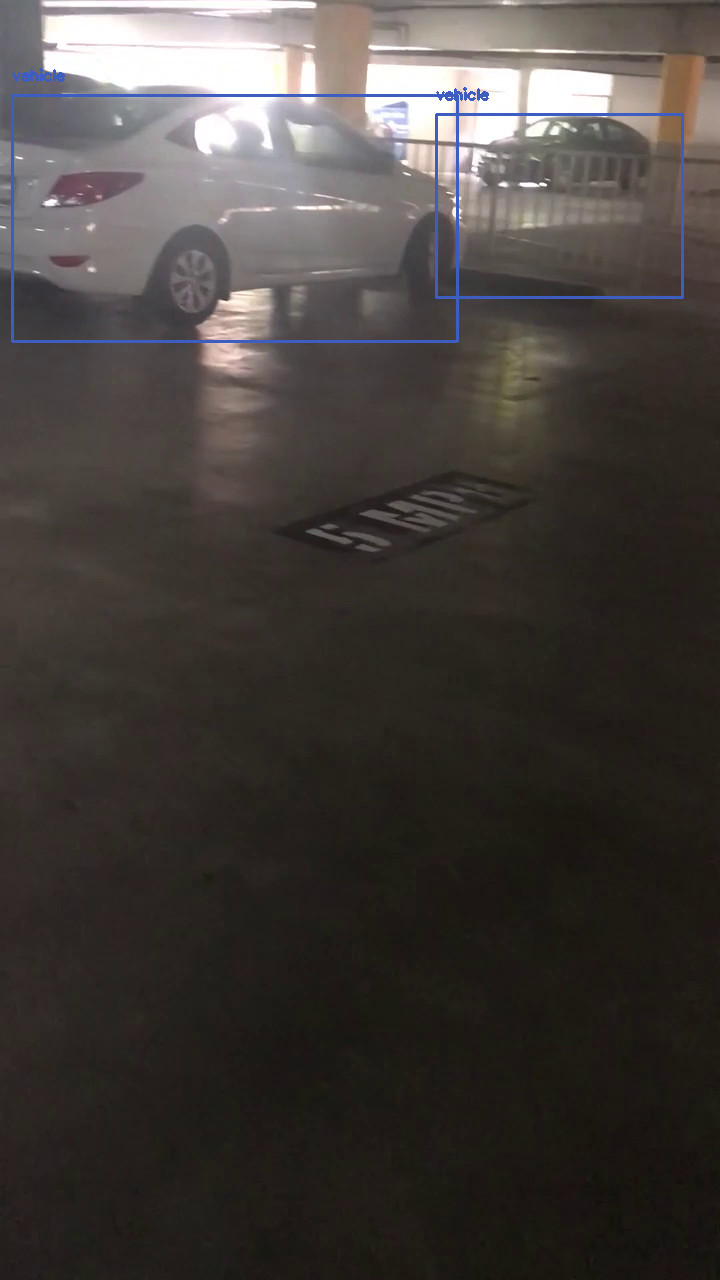vehicle: (12, 95, 457, 341), (436, 114, 682, 297)
